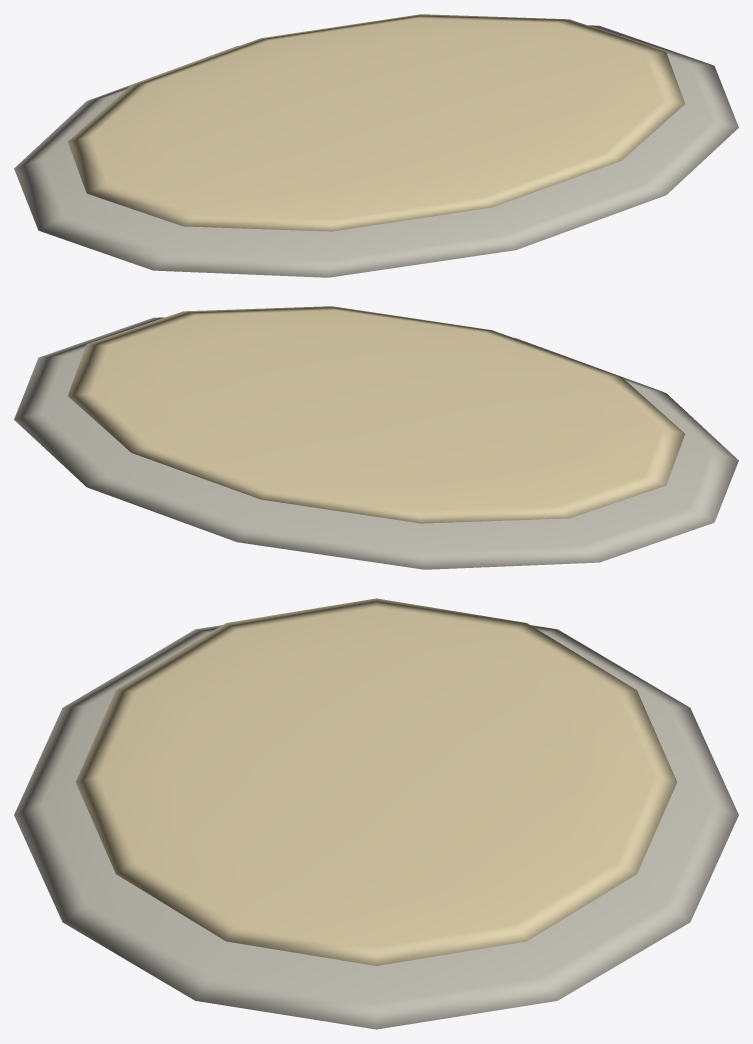
The model's file is zoo-and-safari-park-builder-sand-pit-9c7492d9__21480.glb.
3 renders of one model, top to bottom at view 1: azimuth 30°, elevation 25°; view 2: azimuth 150°, elevation 25°; view 3: azimuth 270°, elevation 25°, orthographic. The views are drawn at different scales.
Visible parts, largest first — view 1: sand-pit; view 2: sand-pit; view 3: sand-pit.
Part boxes in pixels (x1,y1,x2,y2): sand-pit: [14, 14, 738, 277]; sand-pit: [14, 306, 738, 569]; sand-pit: [14, 598, 738, 1029].
Size of the model in its own units: 2.8 by 0.22 by 2.
